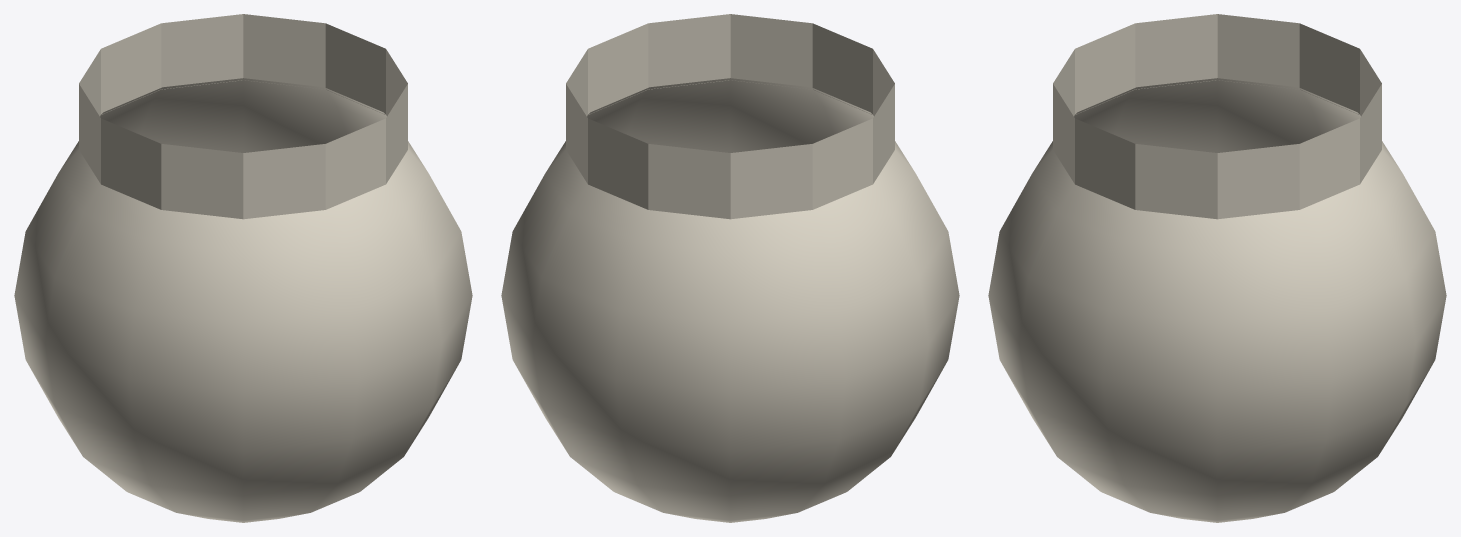
The model's file is lampa_z_bidula.fbx.
3 renders of one model, left to right at view 1: azimuth 30°, elevation 25°; view 2: azimuth 150°, elevation 25°; view 3: azimuth 270°, elevation 25°, orthographic.
Parts seen in each view (by area): view 1: lampa_z_bidula_LOD0; view 2: lampa_z_bidula_LOD0; view 3: lampa_z_bidula_LOD0.
Part boxes in pixels (<box>): lampa_z_bidula_LOD0: <box>14,14,472,522</box>; lampa_z_bidula_LOD0: <box>501,14,959,522</box>; lampa_z_bidula_LOD0: <box>988,14,1446,522</box>.
Size of what is drawn, in the model's own units: 30.03 by 30.35 by 30.03.
